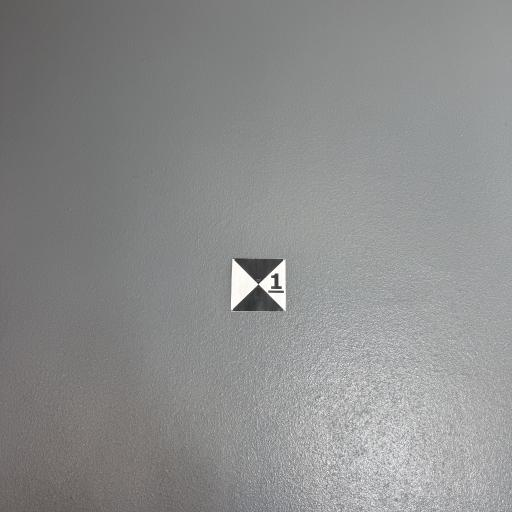target1: (230, 254, 292, 314)
